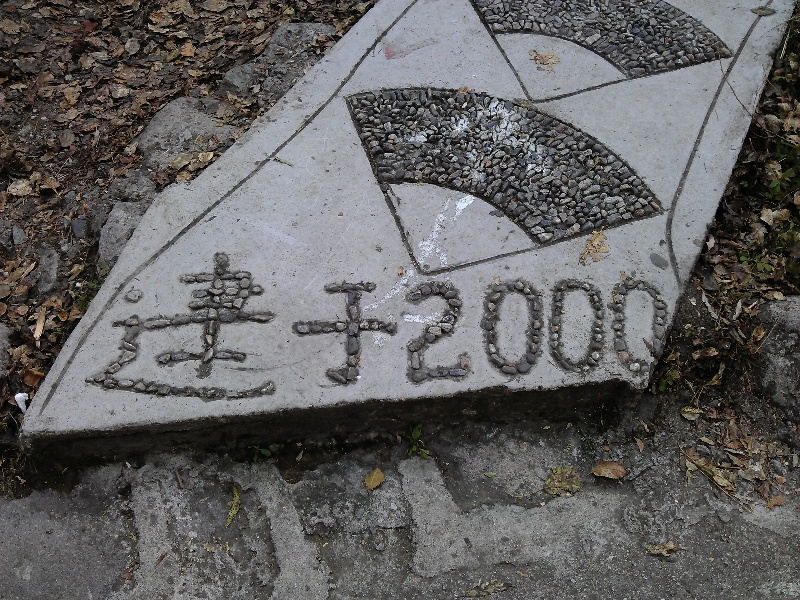text: (81, 219, 96, 415), (97, 219, 112, 415), (113, 219, 128, 415), (129, 219, 144, 415), (145, 219, 160, 415), (161, 219, 176, 415), (177, 219, 192, 415), (193, 219, 208, 415), (209, 219, 224, 415), (225, 219, 240, 415), (241, 219, 256, 415), (257, 219, 272, 415), (273, 219, 288, 415), (289, 219, 304, 415), (305, 219, 320, 415), (321, 219, 336, 415), (337, 219, 352, 415), (353, 219, 368, 415), (369, 219, 384, 415), (385, 219, 400, 415), (401, 219, 416, 415), (417, 219, 432, 415), (433, 219, 448, 415), (449, 219, 464, 415), (465, 219, 480, 415), (481, 219, 496, 415), (497, 219, 512, 415), (513, 219, 528, 415), (529, 219, 544, 415), (545, 219, 560, 415), (561, 219, 576, 415), (577, 219, 592, 415), (593, 219, 608, 415), (609, 219, 624, 415), (625, 219, 640, 415), (641, 219, 656, 415), (657, 219, 671, 415), (74, 219, 80, 415)
